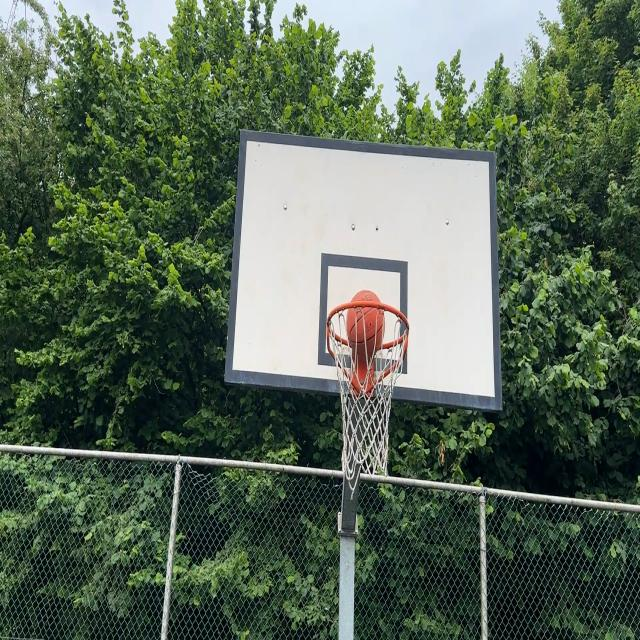rebound_hit: (348, 290, 385, 358)
